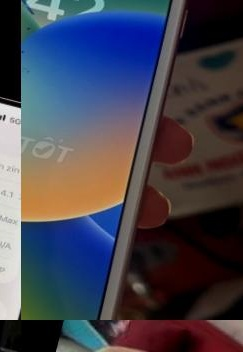screen_defect: (21, 47, 35, 91), (21, 21, 36, 32), (21, 43, 29, 55)
